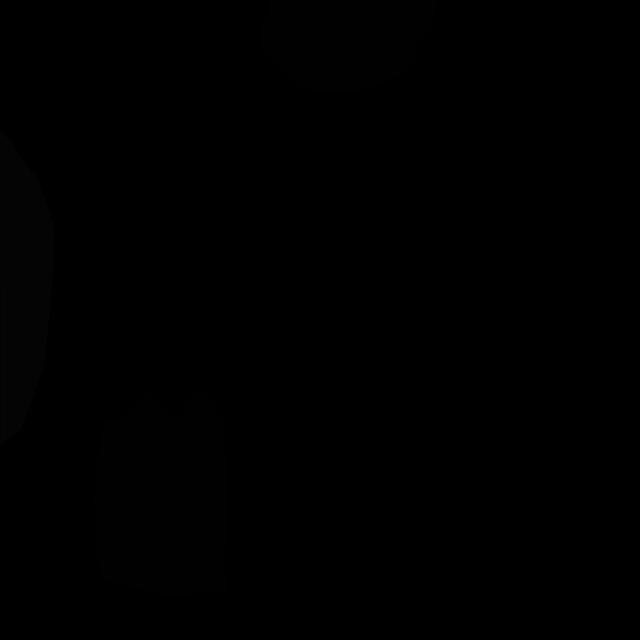rigid_plastic: (92, 388, 228, 596), (260, 0, 438, 93)
soft_plastic: (0, 128, 54, 444)
